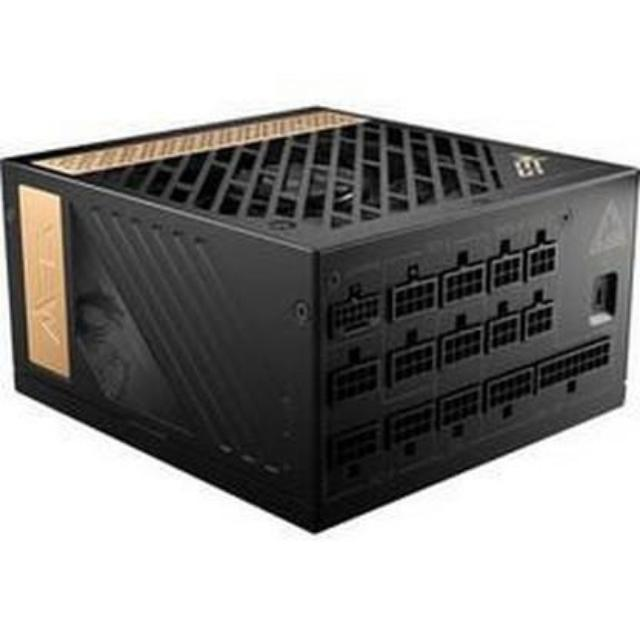PSU: (0, 102, 640, 534)
